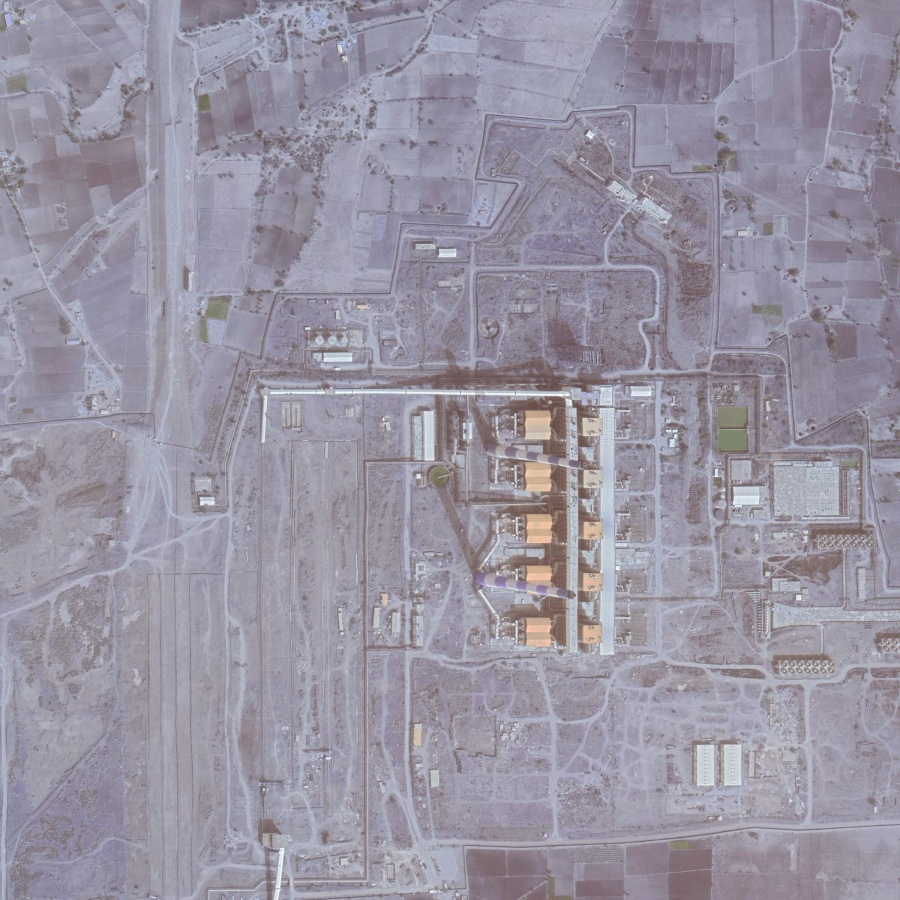PowerPlant: (246, 377, 875, 789)
